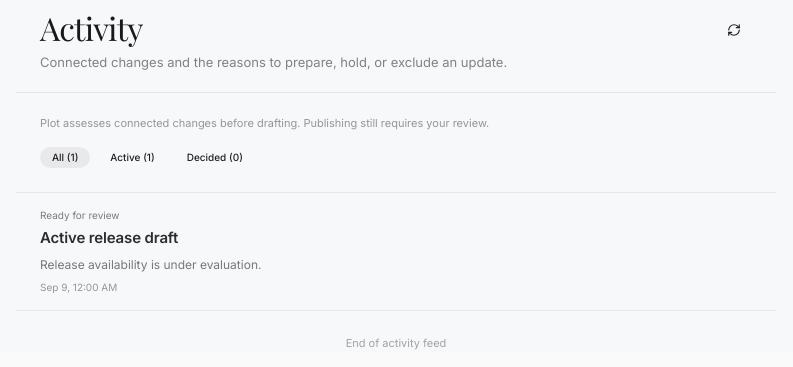
Test: Autonomy Home › filters activity items by status category and renders filtered empty state when none match
Expected: the heading "Active release draft" is shown, [40,228,178,247]
# Click Decided filter tab
Click the tab "Decided (0)": x=215, y=158 [175,147,255,168]
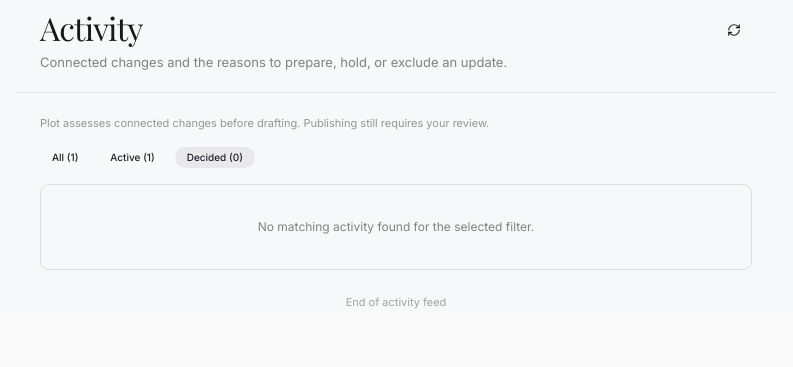
Expected: the heading "Active release draft" is gone
Expected: the text "No matching activity found for the selected filter." is shown, [258,219,534,234]
# Click Active filter tab
Click the tab "Active (1)": x=132, y=158 [98,147,167,168]
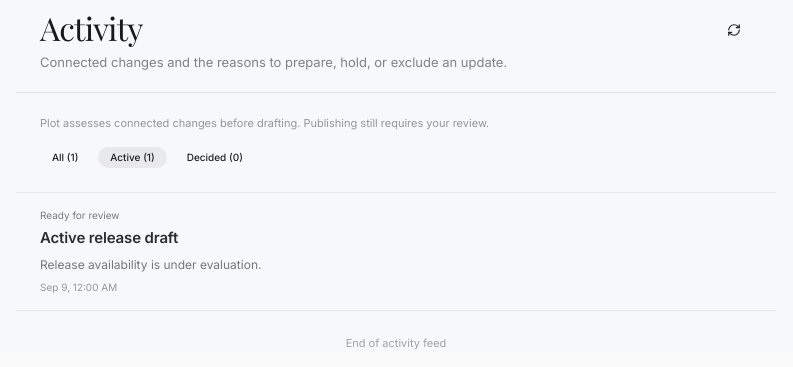
Expected: the heading "Active release draft" is shown, [40,228,178,247]
